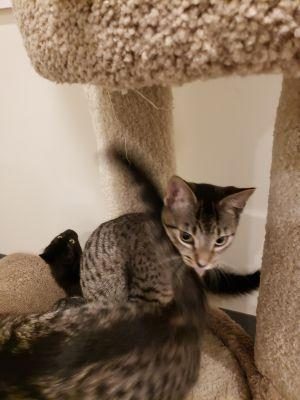bengal: (158, 168, 259, 275)
